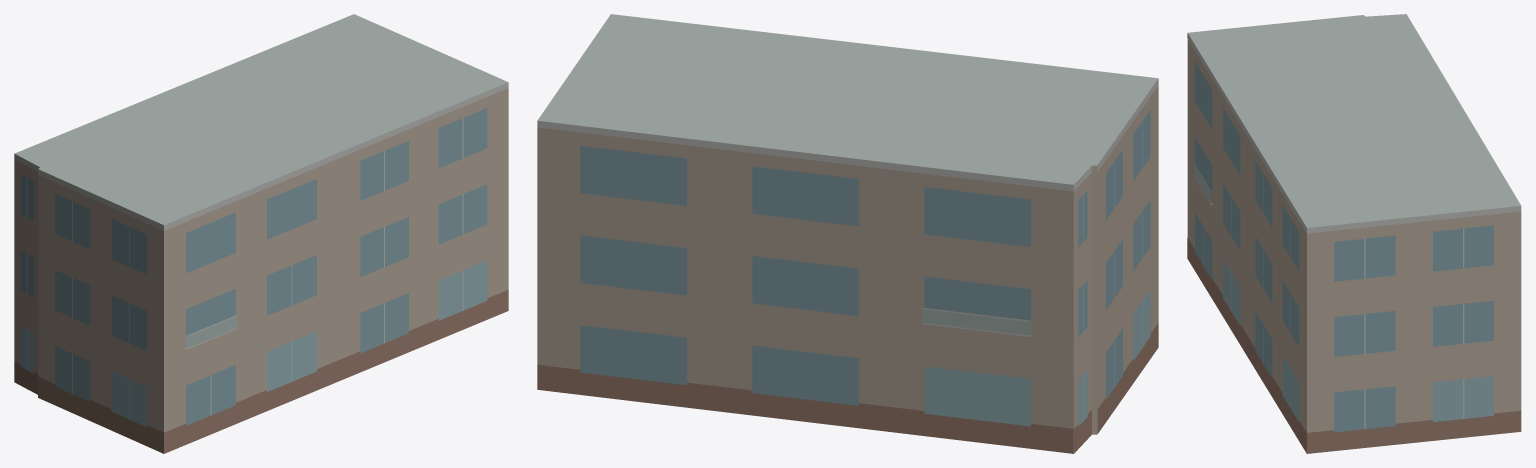
The model's file is survey-upis-32986376.glb.
The picture shows the model from 3 angles, left to right: view 1: azimuth 30°, elevation 25°; view 2: azimuth 150°, elevation 25°; view 3: azimuth 270°, elevation 25°; orthographic projection. The views are drawn at different scales.
Visible parts, largest first — view 1: survey-upis-32986376.tmp; view 2: survey-upis-32986376.tmp; view 3: survey-upis-32986376.tmp.
Part boxes in pixels (box(x1,y1,x2,y2)): survey-upis-32986376.tmp: box(14, 14, 508, 453); survey-upis-32986376.tmp: box(537, 14, 1158, 453); survey-upis-32986376.tmp: box(1187, 14, 1521, 453).
Bounding box in the file's own units: 19.92 × 9.8 × 13.14.
